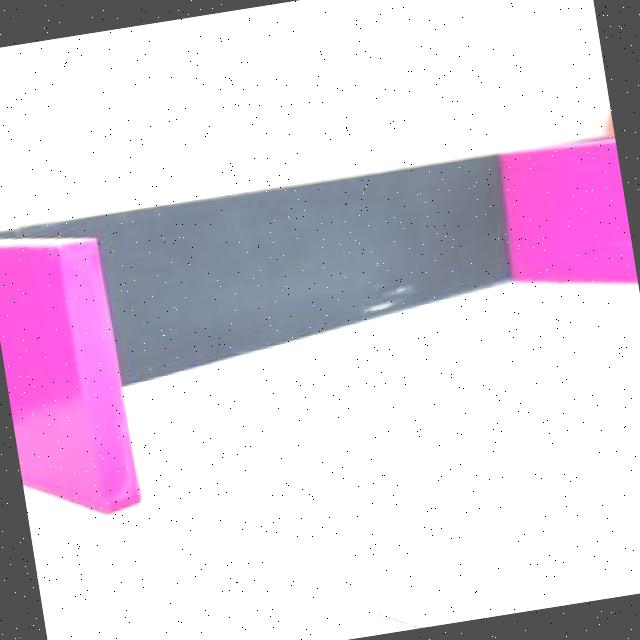xparking: (0, 234, 137, 521), (498, 142, 636, 292)
